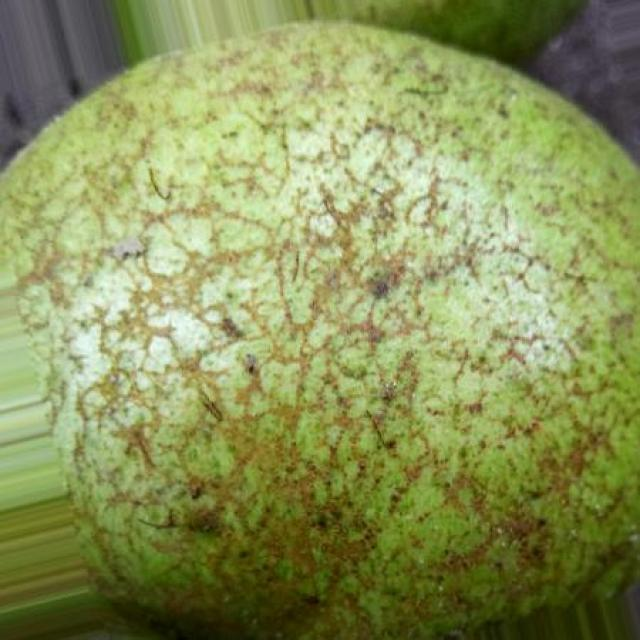Scab: (0, 25, 640, 640)
